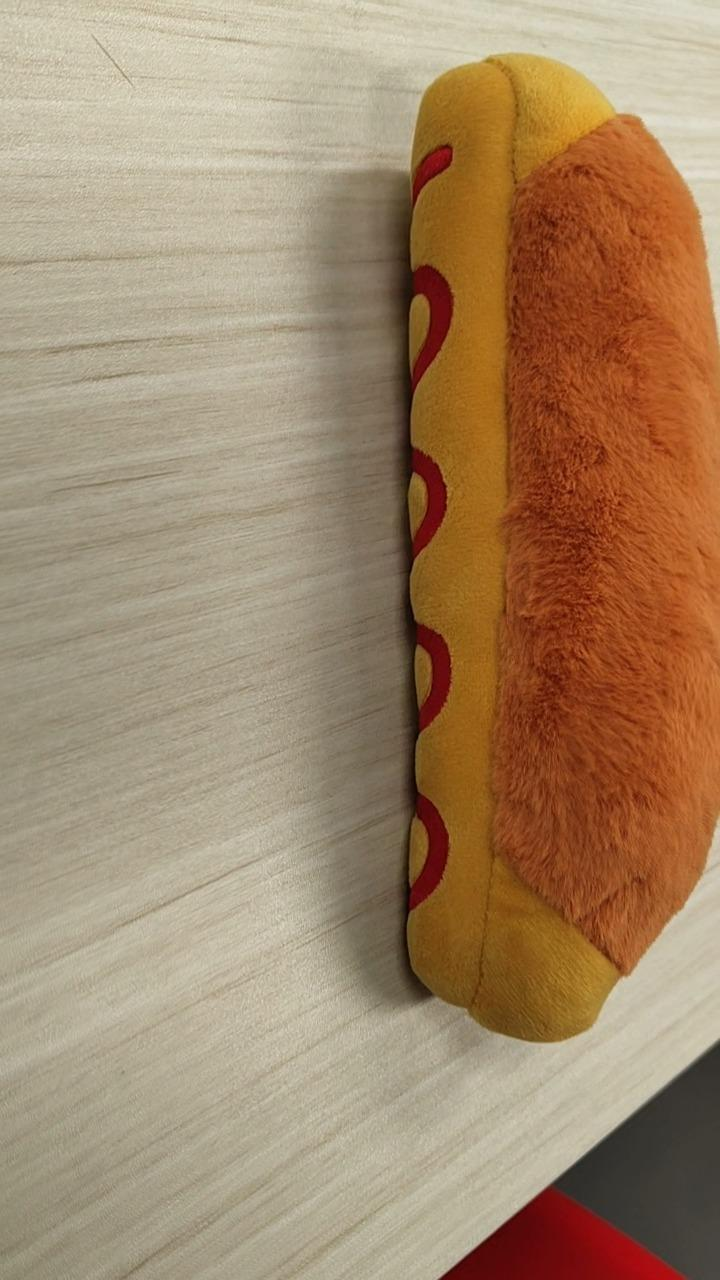hotdog: (401, 51, 718, 1043)
